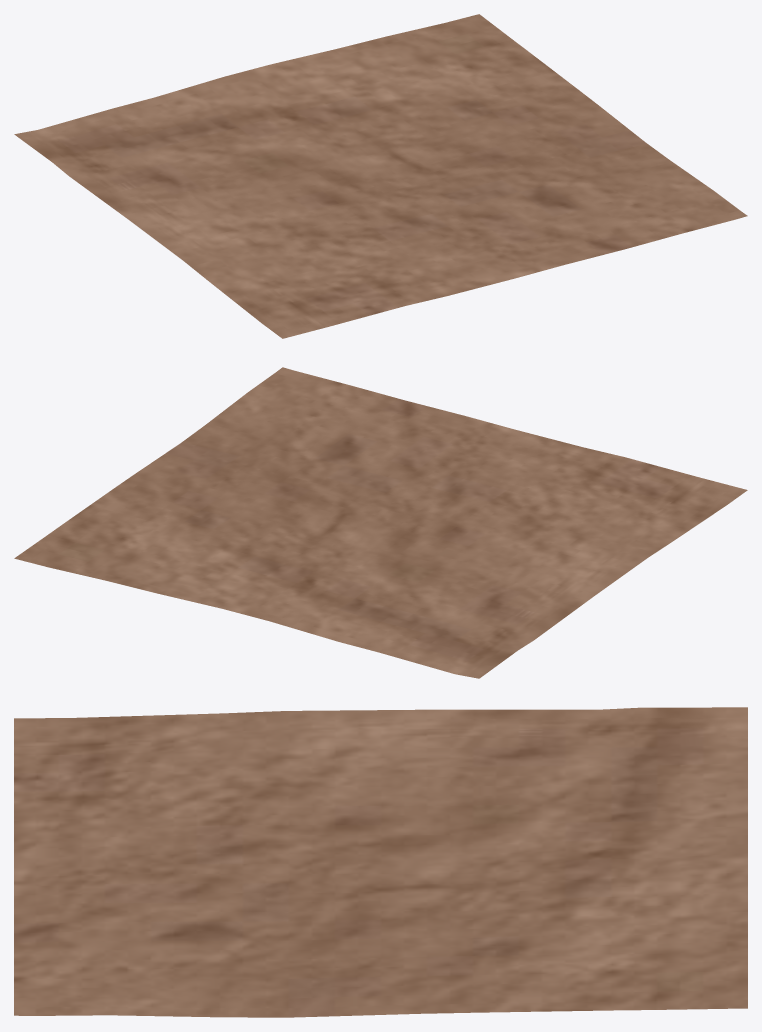
3 renders of one model, top to bottom at view 1: azimuth 30°, elevation 25°; view 2: azimuth 150°, elevation 25°; view 3: azimuth 270°, elevation 25°, orthographic. The views are drawn at different scales.
Size of the model in its own units: 64 by 2 by 64.
1 material, 1 textured.
